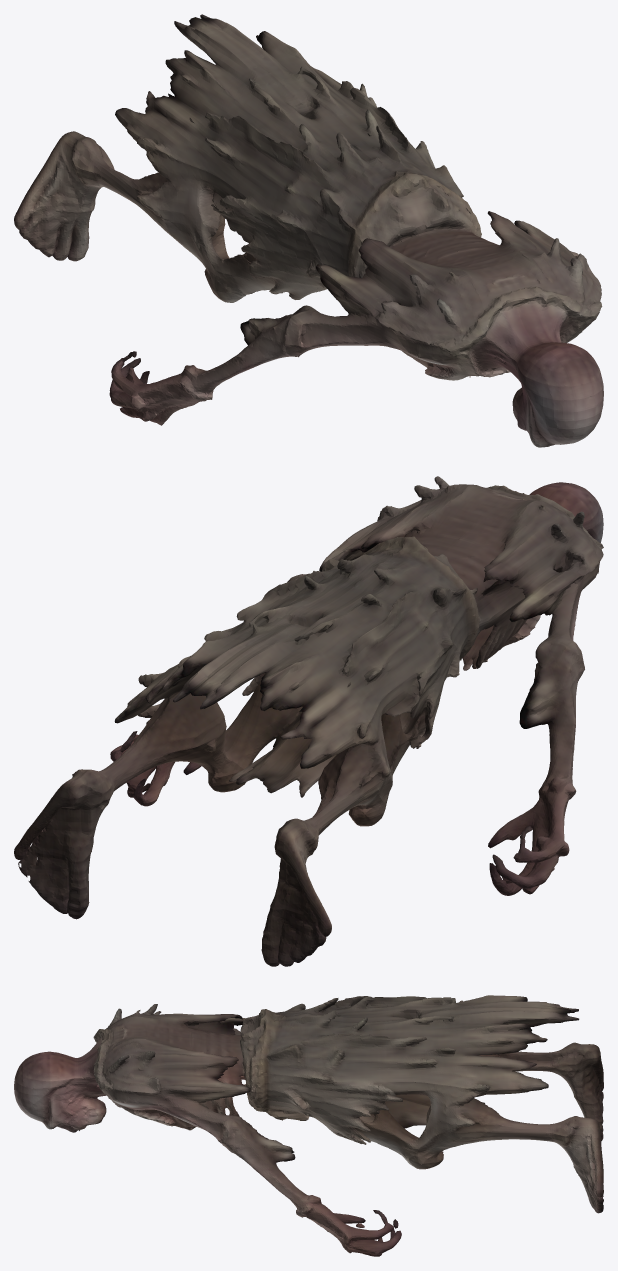
Rendered from hollow-initial.glb.
3 renders of one model, top to bottom at view 1: azimuth 30°, elevation 25°; view 2: azimuth 150°, elevation 25°; view 3: azimuth 270°, elevation 25°, orthographic. The views are drawn at different scales.
Visible parts, largest first — view 1: geometry_0; view 2: geometry_0; view 3: geometry_0.
Boxes of the visible parts, bbox=[...] form: geometry_0: bbox=[14, 14, 603, 447]; geometry_0: bbox=[14, 476, 603, 966]; geometry_0: bbox=[14, 995, 603, 1256].
Bounding box in the file's own units: 0.6092 × 0.3526 × 1.
